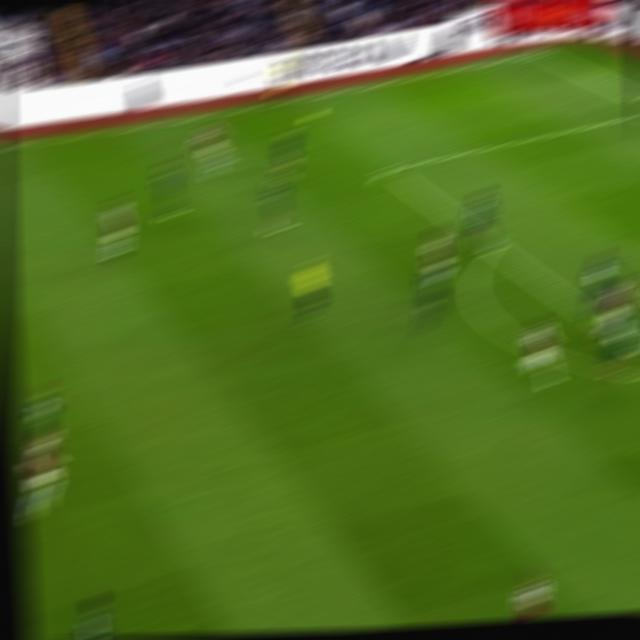bigarea_top_inner: (373, 155, 404, 181)
corner: (523, 44, 556, 61)
top_arc_area_intersection: (480, 234, 510, 260)
